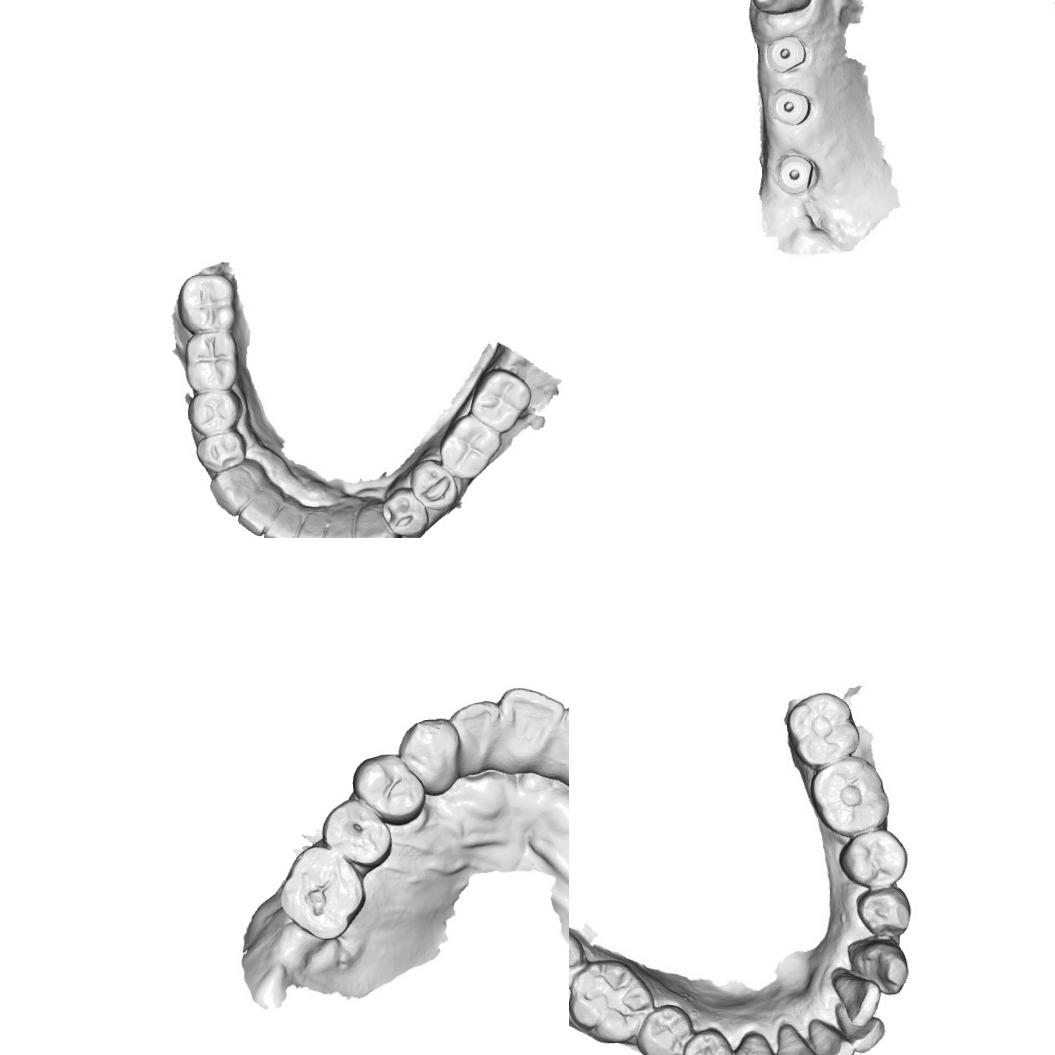canine: (398, 716, 458, 797), (852, 938, 912, 996), (207, 463, 259, 519), (353, 502, 395, 538), (729, 1027, 780, 1055), (747, 0, 810, 16)
implant: (770, 147, 828, 198), (770, 84, 818, 128), (766, 35, 810, 78)
incisor: (496, 684, 563, 768), (448, 699, 502, 778), (833, 1002, 888, 1055), (836, 969, 881, 1023), (808, 1012, 859, 1055), (235, 489, 280, 537), (771, 1022, 817, 1055), (261, 501, 302, 538), (319, 505, 359, 538), (291, 511, 324, 538)
molar: (276, 843, 365, 944), (571, 965, 651, 1045), (790, 692, 859, 771), (816, 761, 884, 833), (436, 413, 503, 482), (469, 365, 534, 436), (176, 271, 240, 336), (182, 328, 244, 393)
premolar: (350, 750, 429, 826), (320, 796, 393, 871), (836, 826, 912, 887), (854, 884, 912, 938), (408, 457, 460, 514), (635, 1004, 692, 1055), (187, 387, 243, 438), (379, 484, 430, 538), (194, 430, 250, 475), (682, 1024, 733, 1055)
